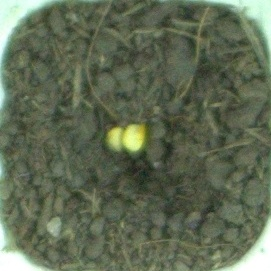pepper seed: (48, 45, 196, 198), (38, 50, 167, 201)
